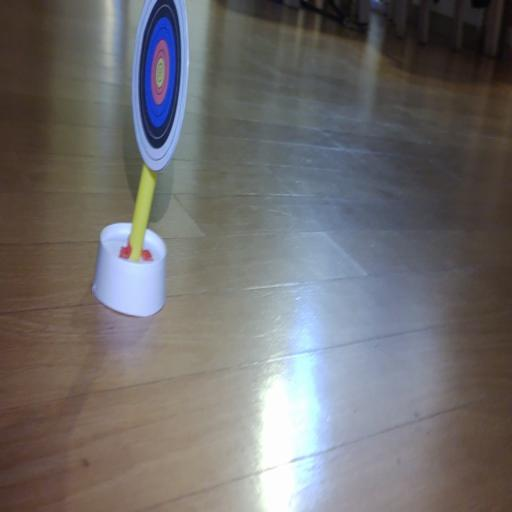target: (132, 0, 188, 171)
